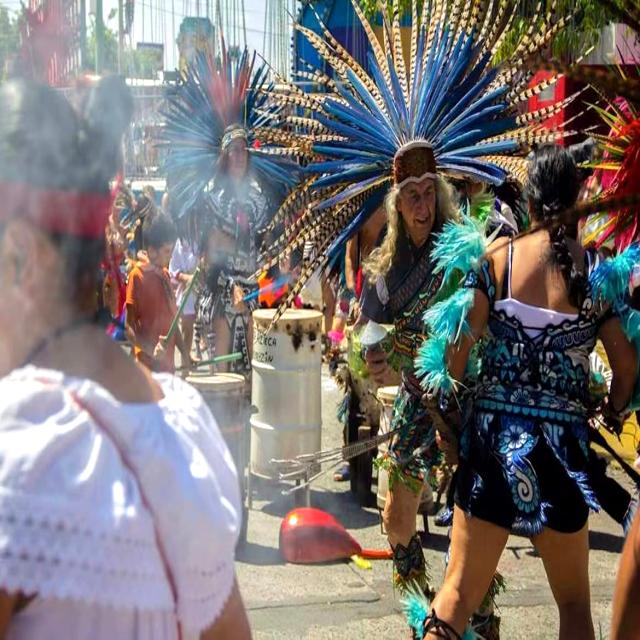Reeves-s Pheasant: (243, 0, 598, 347)
